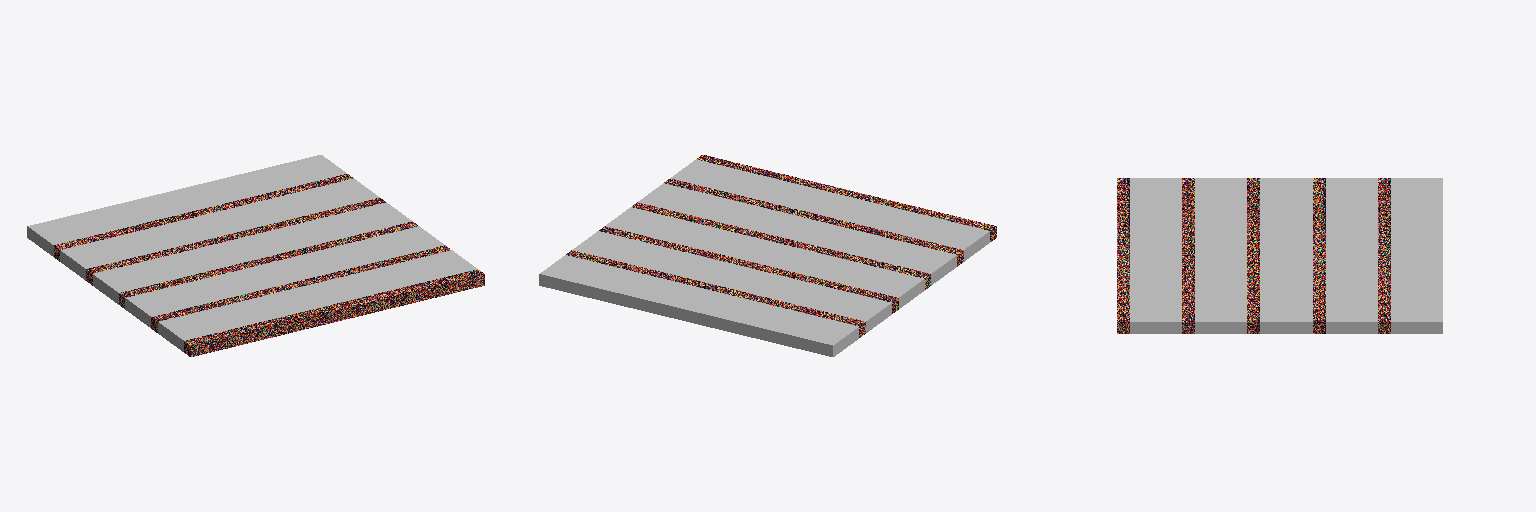
3 views of the same model, side by side, from view 1: azimuth 30°, elevation 25°; view 2: azimuth 150°, elevation 25°; view 3: azimuth 270°, elevation 25° (orthographic).
Visible parts, largest first — view 1: Cube.002_Cube.059, Cube.004_Cube.084, Cube.003_Cube.083, Cube.000_Cube.081, Cube.001_Cube.082; view 2: Cube.004_Cube.084, Cube.002_Cube.059, Cube.003_Cube.083, Cube.000_Cube.081, Cube.001_Cube.082; view 3: Cube.001_Cube.082, Cube.004_Cube.084, Cube.003_Cube.083, Cube.000_Cube.081, Cube.002_Cube.059.
Part boxes in pixels (left/top/right/bottom): Cube.002_Cube.059: left=158, top=250, right=484, bottom=356; Cube.004_Cube.084: left=27, top=155, right=353, bottom=261; Cube.003_Cube.083: left=60, top=179, right=385, bottom=285; Cube.000_Cube.081: left=125, top=226, right=450, bottom=332; Cube.001_Cube.082: left=93, top=202, right=417, bottom=308; Cube.004_Cube.084: left=539, top=250, right=865, bottom=356; Cube.002_Cube.059: left=670, top=155, right=996, bottom=261; Cube.003_Cube.083: left=573, top=226, right=898, bottom=332; Cube.000_Cube.081: left=638, top=179, right=963, bottom=285; Cube.001_Cube.082: left=606, top=202, right=930, bottom=308; Cube.001_Cube.082: left=1247, top=178, right=1312, bottom=333; Cube.004_Cube.084: left=1378, top=178, right=1442, bottom=333; Cube.003_Cube.083: left=1313, top=178, right=1377, bottom=333; Cube.000_Cube.081: left=1182, top=178, right=1246, bottom=333; Cube.002_Cube.059: left=1117, top=178, right=1181, bottom=333.
Size of the model in its own units: 52 by 2 by 50.
Materials: 2 (1 with a texture image).